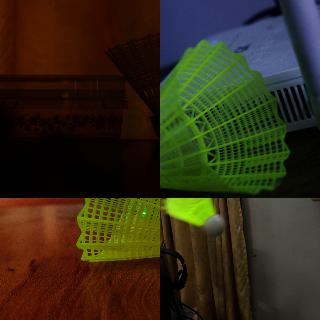shuttlecock: (160, 40, 289, 197), (105, 27, 159, 142), (75, 198, 159, 268), (163, 198, 226, 236)
